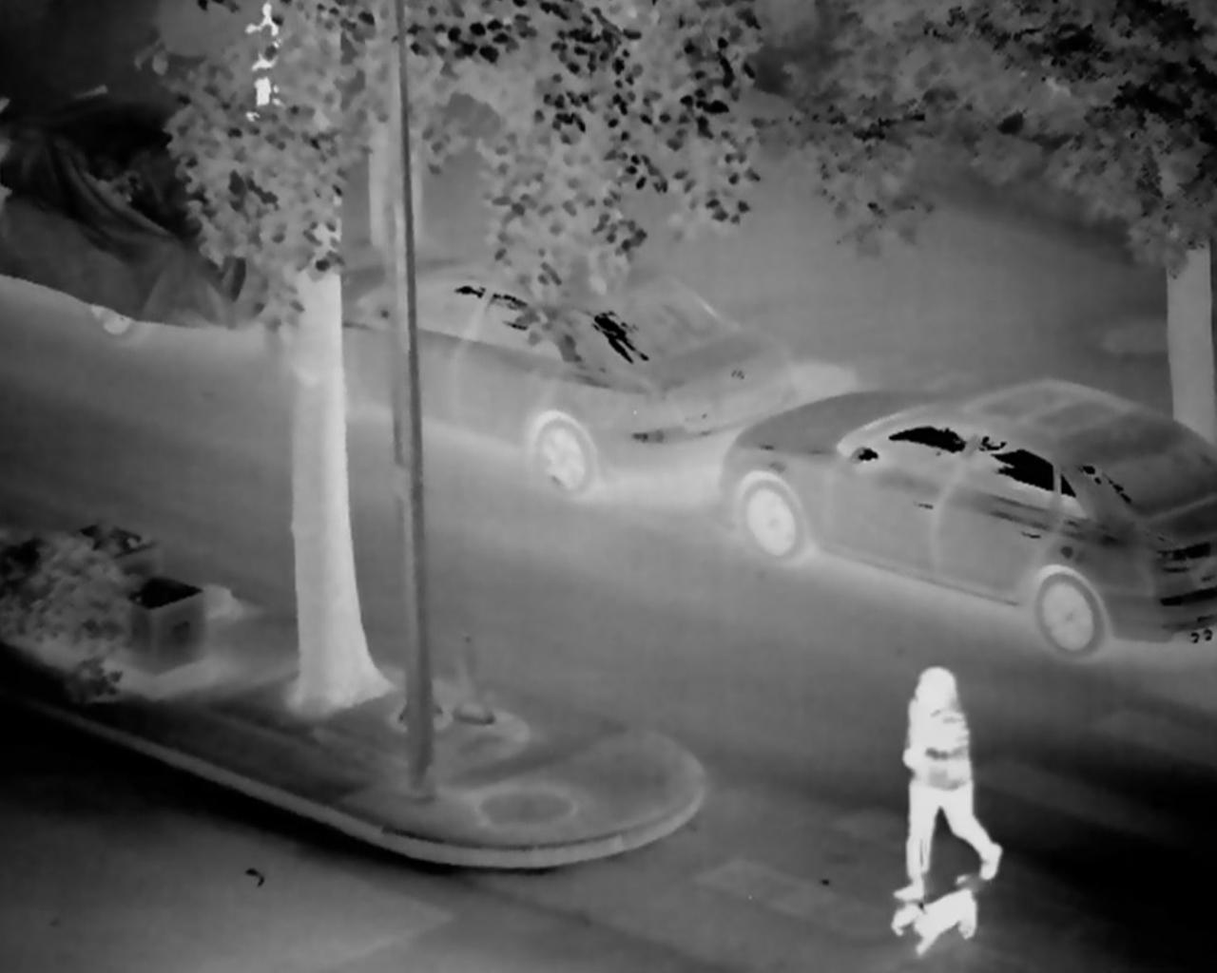person: (894, 660, 1005, 909)
